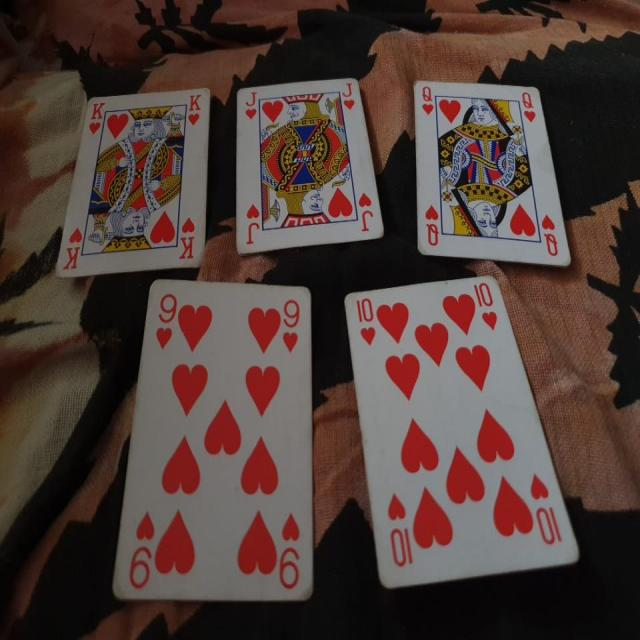10 Hearts: (344, 272, 585, 591)
9 Hearts: (100, 268, 325, 612)
J Hearts: (228, 74, 385, 260)
K Hearts: (46, 84, 215, 278)
Q Hearts: (404, 66, 575, 277)
